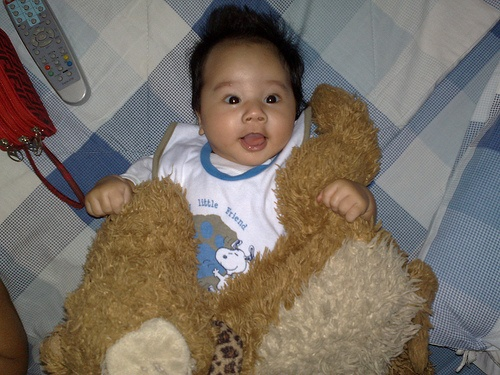head: (189, 32, 304, 168)
person: (81, 4, 381, 375)
